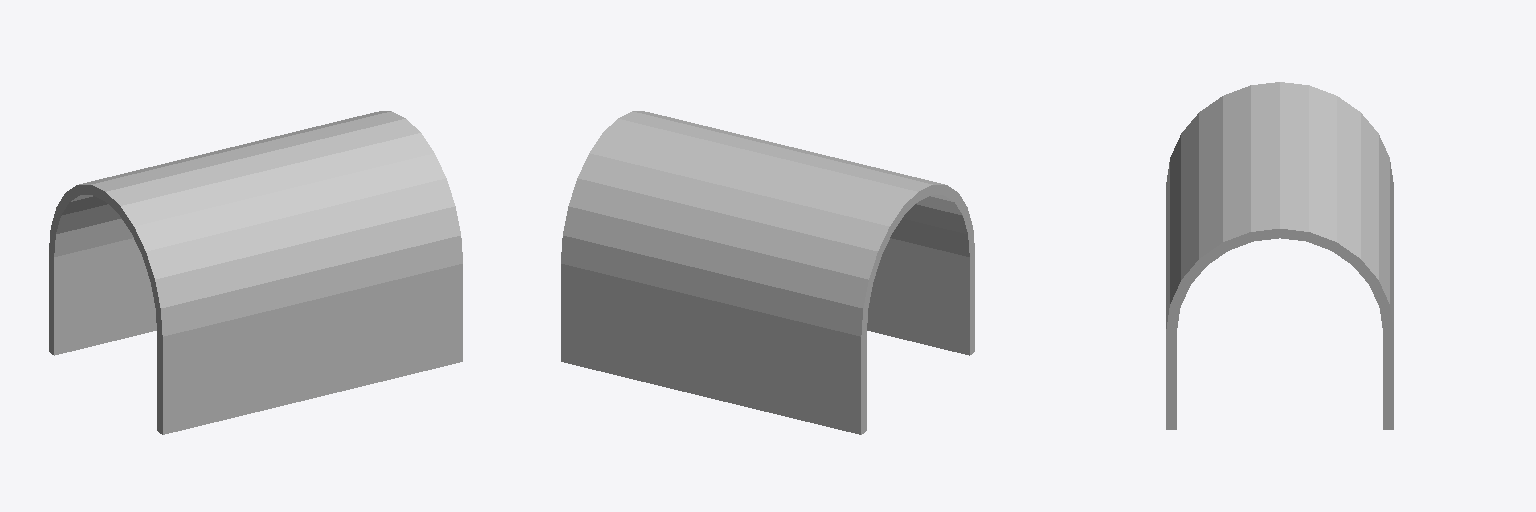
The model's file is tunnel.obj.
The picture shows the model from 3 angles: view 1: azimuth 30°, elevation 25°; view 2: azimuth 150°, elevation 25°; view 3: azimuth 270°, elevation 25°; orthographic projection.
Parts seen in each view (by area): view 1: Cube; view 2: Cube; view 3: Cube.
Boxes of the visible parts, x1=… form: Cube: x1=49, y1=111, x2=462, y2=434; Cube: x1=561, y1=111, x2=974, y2=434; Cube: x1=1166, y1=82, x2=1393, y2=429.
Bounding box in the file's own units: 6.4 × 4.1 × 4.2.